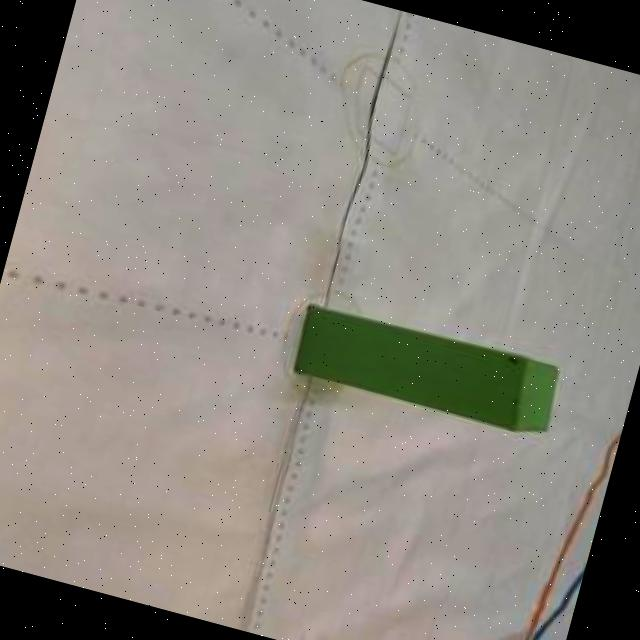greenbox: (286, 295, 562, 441)
